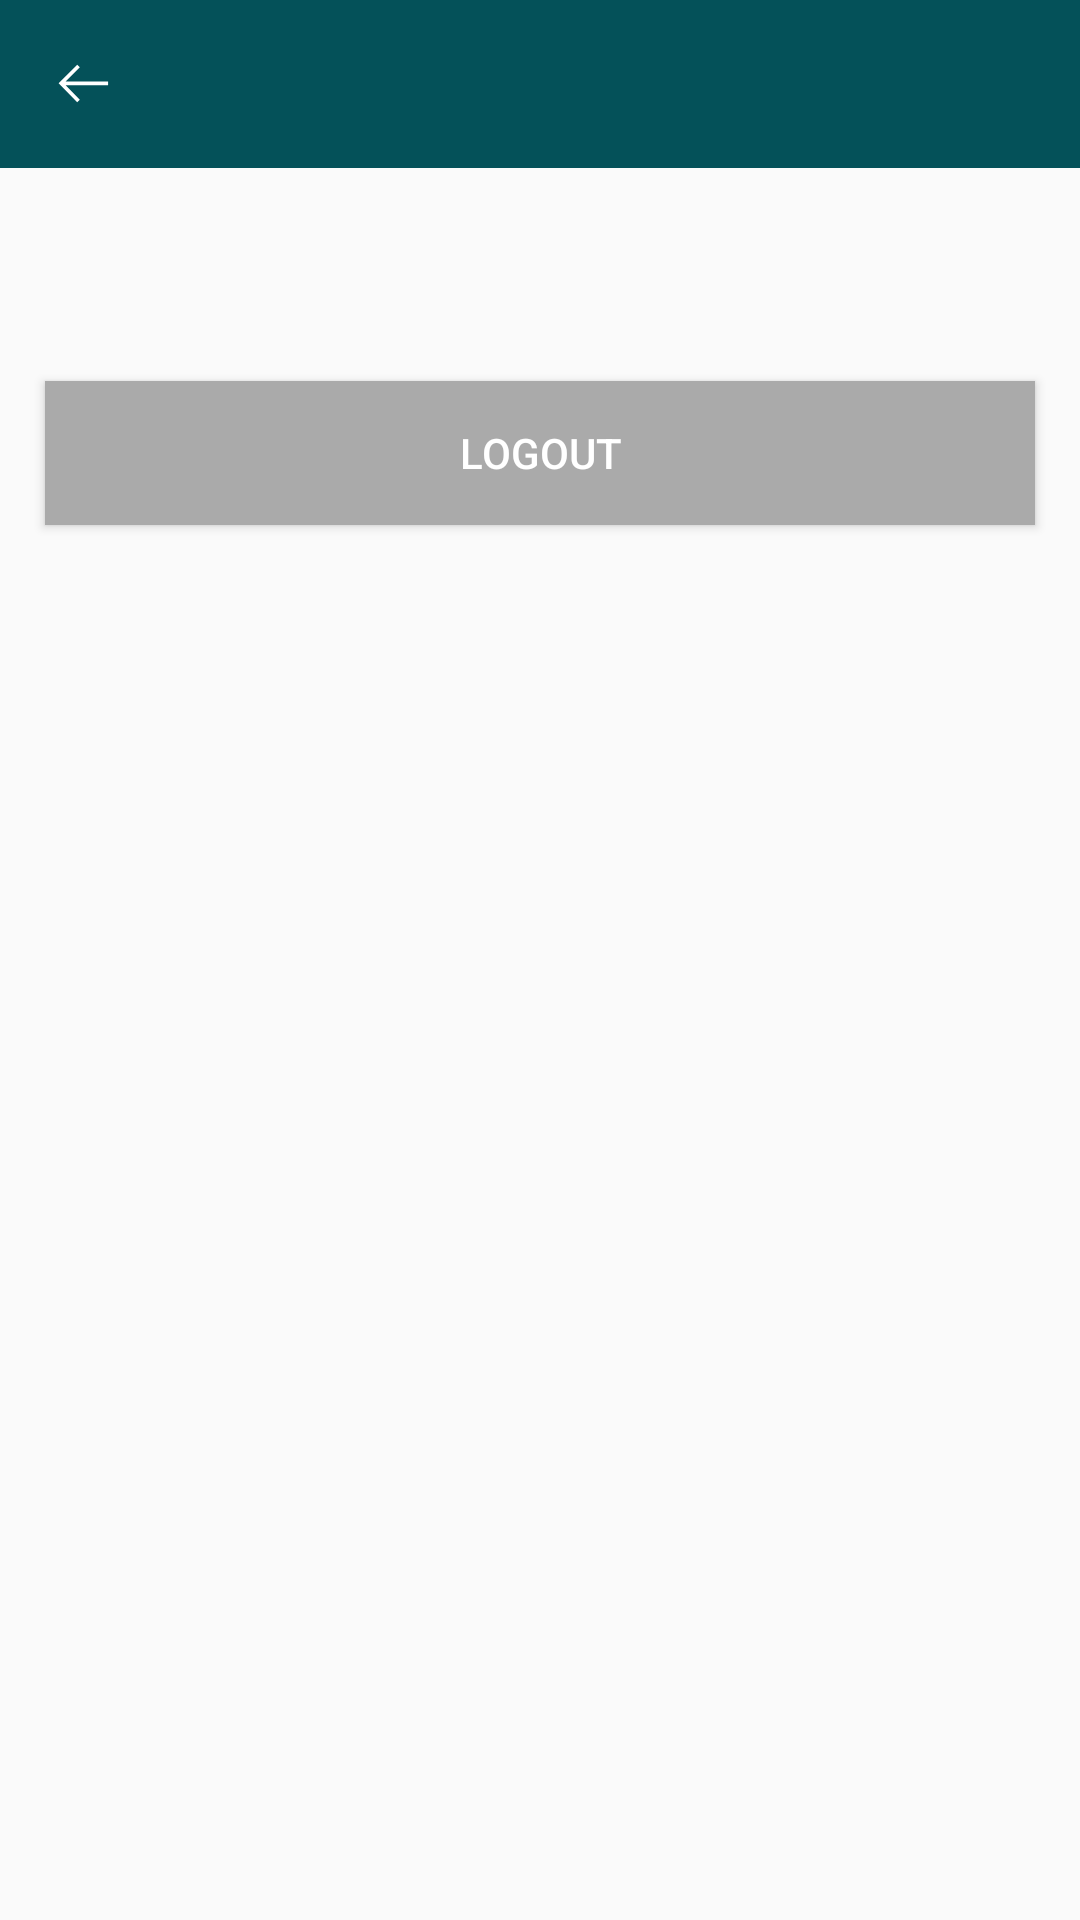

Named icons in this screenshot (1080x1920) and their bounding boxes, (x1, y1, x2, y2):
back: (58, 65, 108, 102)
